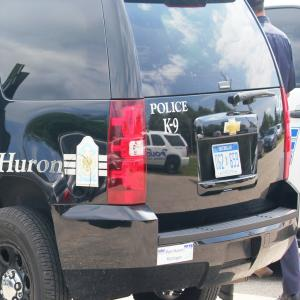Vehicle-registration-plate: (218, 139, 251, 183)
